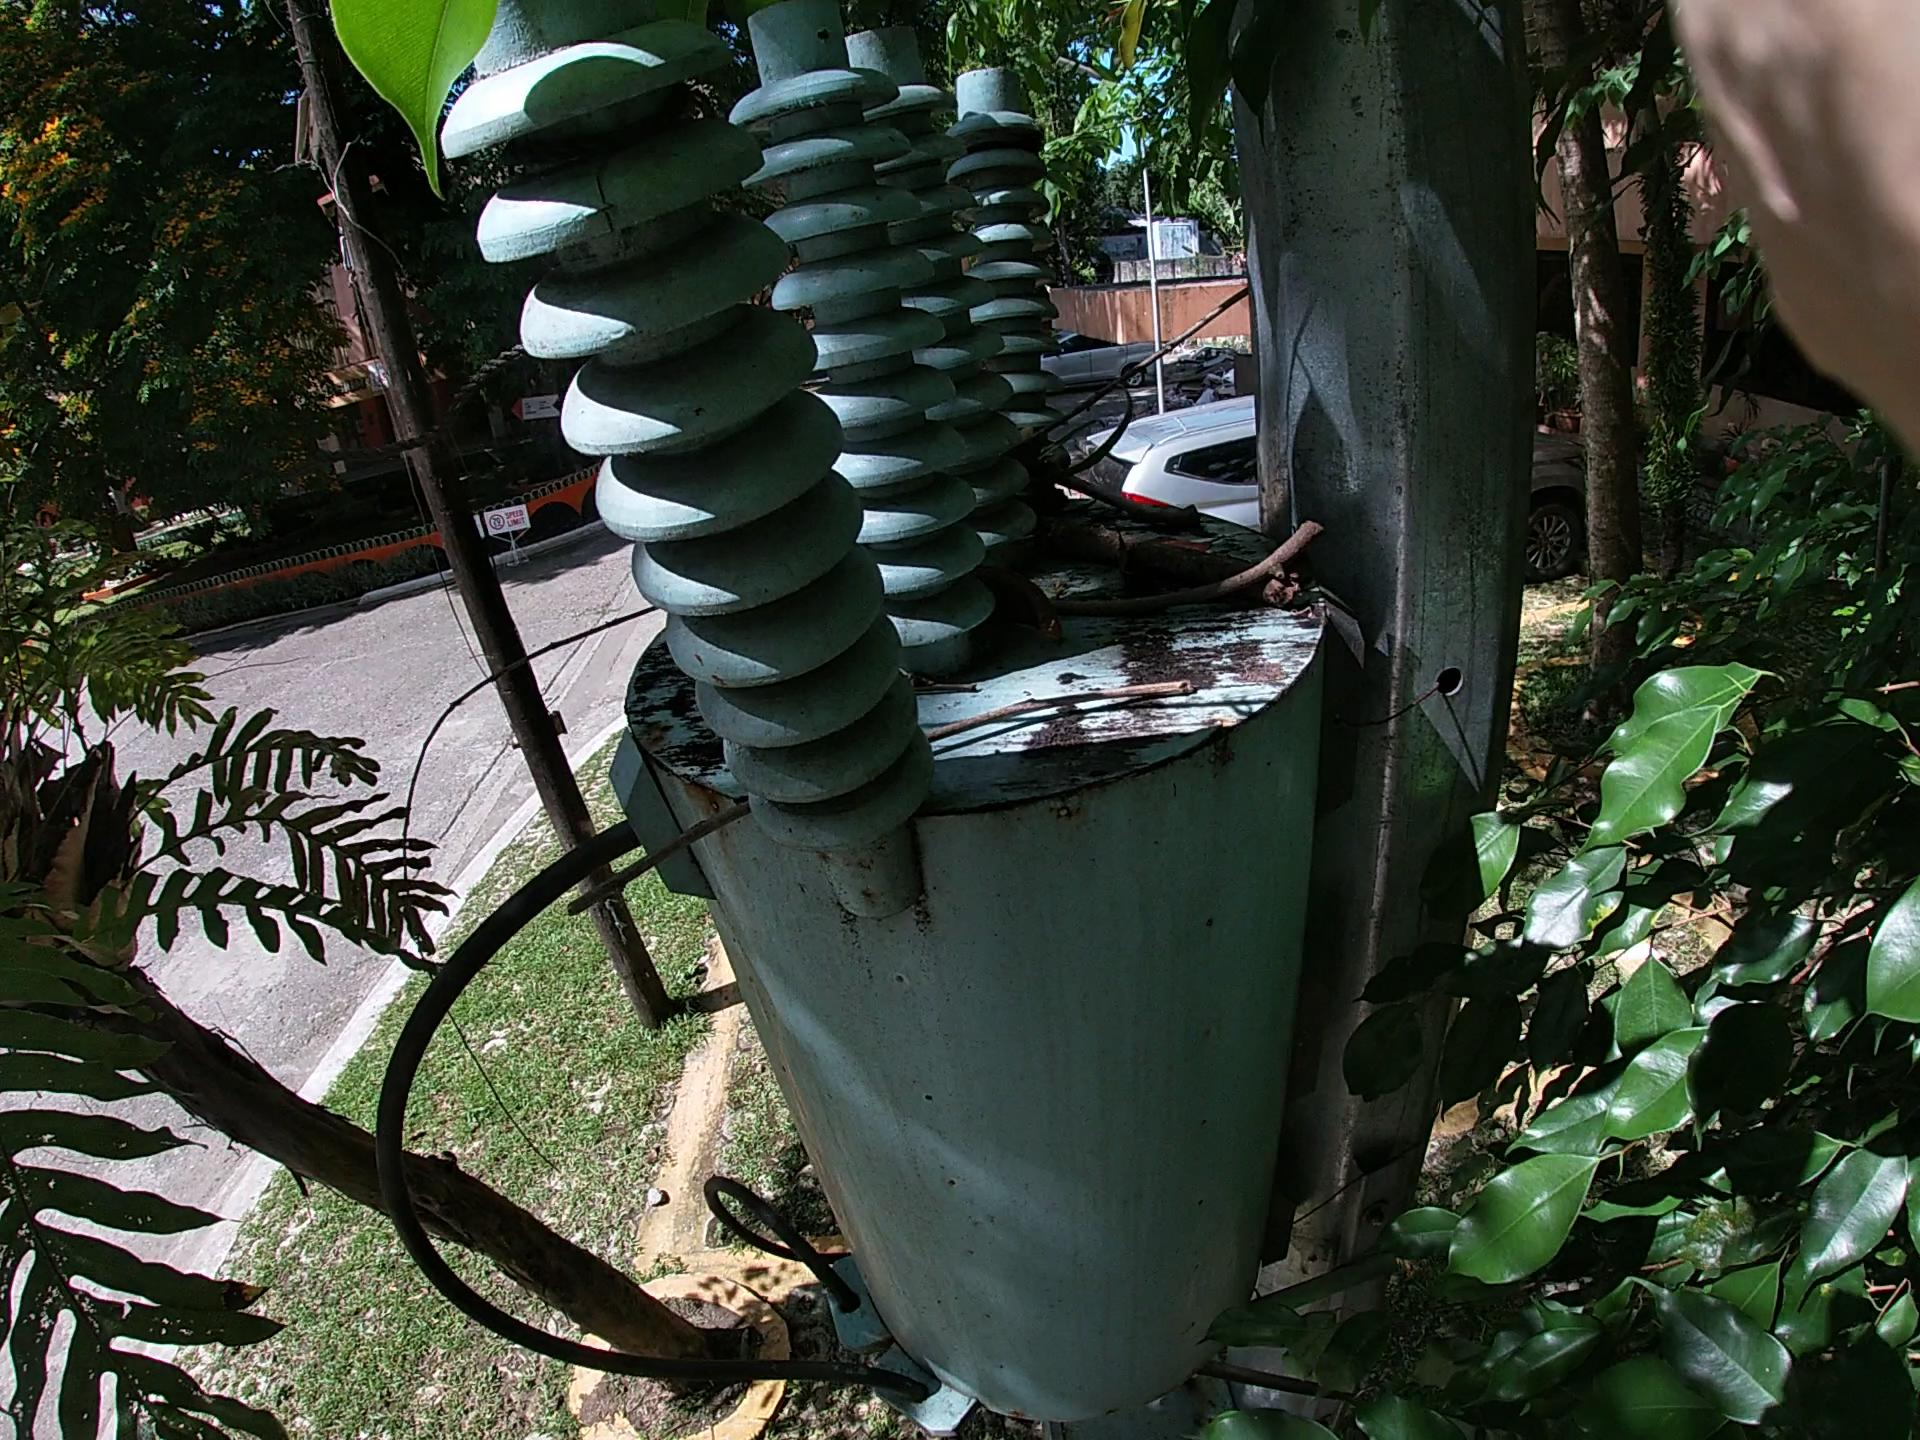branch with leaves: (971, 383, 1341, 573)
leaf: (1081, 489, 1214, 641)
tree branch: (671, 629, 1200, 867), (903, 236, 1290, 529), (924, 486, 1323, 602)
